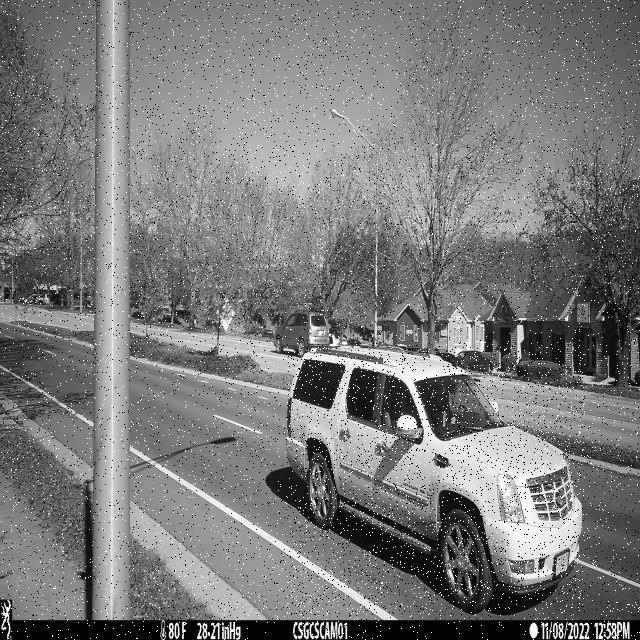SUV: (287, 347, 585, 616)
